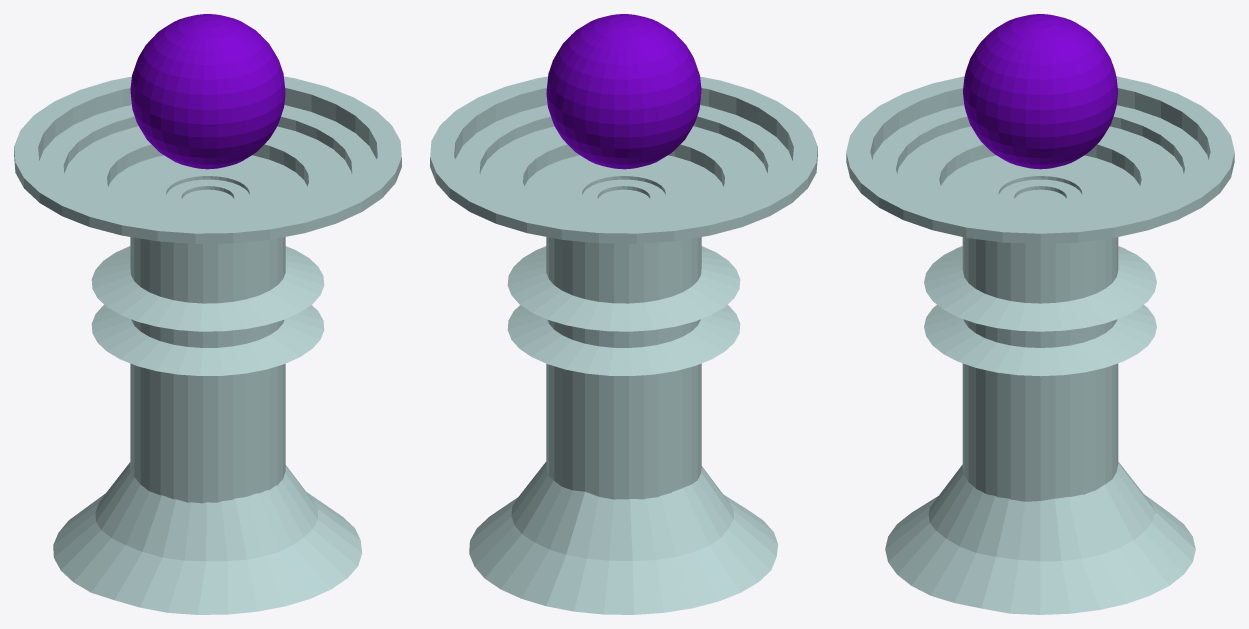
Rendered from Tower.fbx.
3 renders of one model, left to right at view 1: azimuth 30°, elevation 25°; view 2: azimuth 150°, elevation 25°; view 3: azimuth 270°, elevation 25°, orthographic.
Parts seen in each view (by area): view 1: Cone.005; view 2: Cone.005; view 3: Cone.005.
Boxes of the visible parts, box(x1,y1,x2,y2) form: Cone.005: box(14, 14, 401, 614); Cone.005: box(430, 14, 817, 614); Cone.005: box(846, 14, 1234, 614).
Size of the model in its own units: 100 by 150 by 100.
